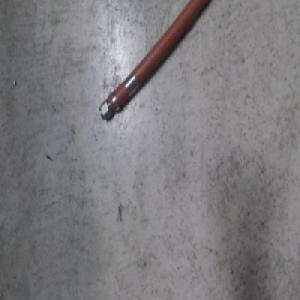Hose: (97, 0, 212, 122)
